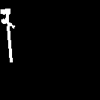double_crochet: (1, 9, 14, 61)
